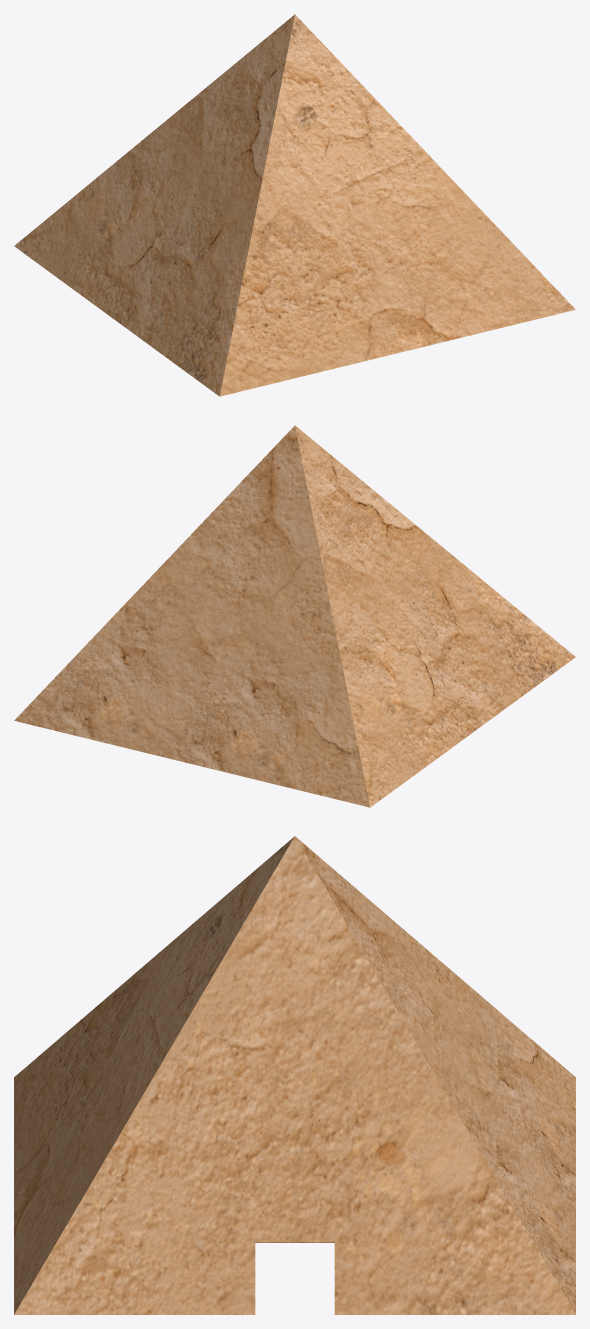
Rendered from piramide.obj.
3 renders of one model, top to bottom at view 1: azimuth 30°, elevation 25°; view 2: azimuth 150°, elevation 25°; view 3: azimuth 270°, elevation 25°, orthographic. The views are drawn at different scales.
Parts seen in each view (by area): view 1: Cone.001; view 2: Cone.001; view 3: Cone.001.
Part boxes in pixels (box(x1,y1,x2,y2)): Cone.001: box(14, 14, 575, 396); Cone.001: box(14, 425, 575, 807); Cone.001: box(14, 836, 575, 1314).
Bounding box in the file's own units: 14.14 × 10 × 14.14.
1 material, 1 textured.
